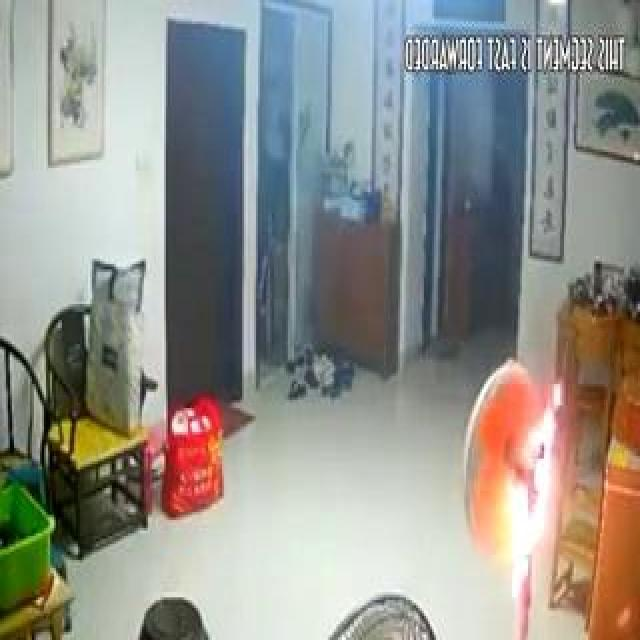Fire: (492, 392, 556, 595)
